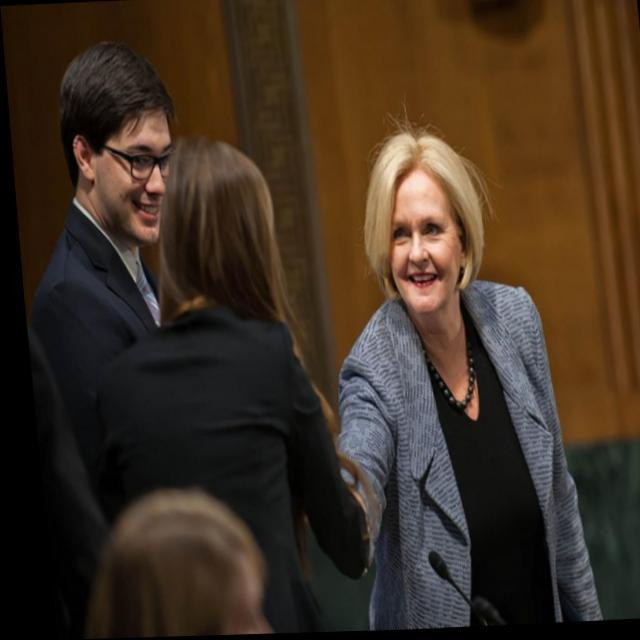Nonhelmet: (51, 33, 190, 256), (360, 121, 494, 313)
